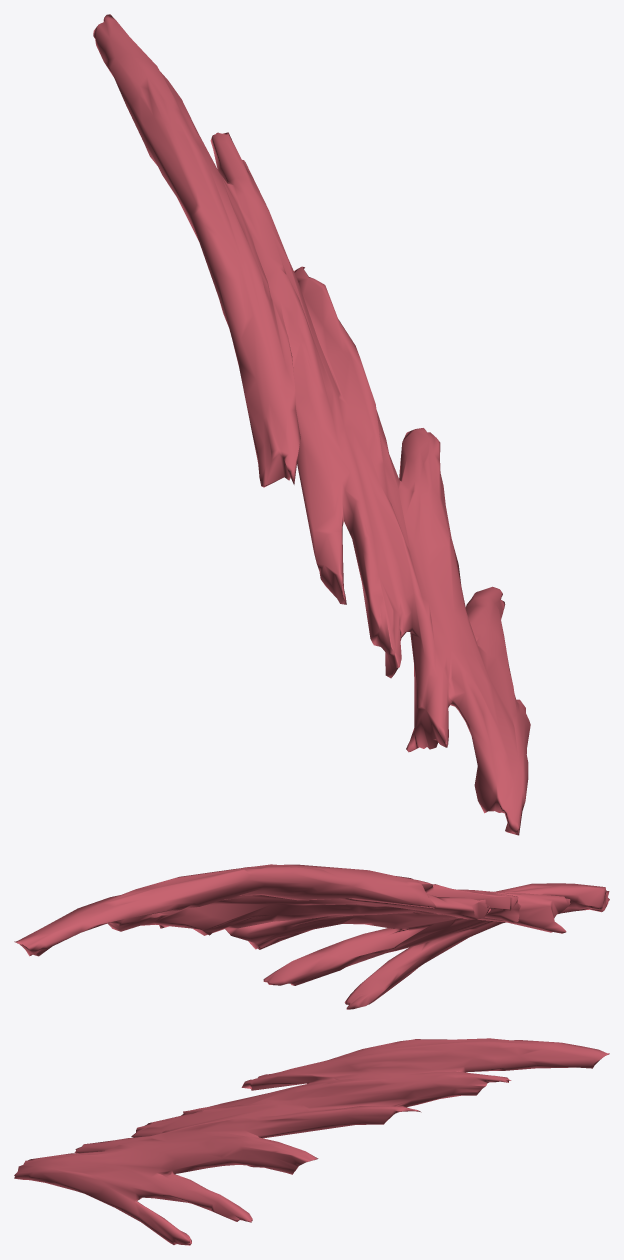
3 renders of one model, top to bottom at view 1: azimuth 30°, elevation 25°; view 2: azimuth 150°, elevation 25°; view 3: azimuth 270°, elevation 25°, orthographic. The views are drawn at different scales.
Visible parts, largest first — view 1: 左侧颈半棘肌; view 2: 左侧颈半棘肌; view 3: 左侧颈半棘肌.
Boxes of the visible parts, x1=… form: 左侧颈半棘肌: x1=93, y1=14, x2=530, y2=835; 左侧颈半棘肌: x1=14, y1=864, x2=609, y2=1009; 左侧颈半棘肌: x1=14, y1=1038, x2=609, y2=1245.
Size of the model in its own units: 0.05 by 0.0777 by 0.2099.
